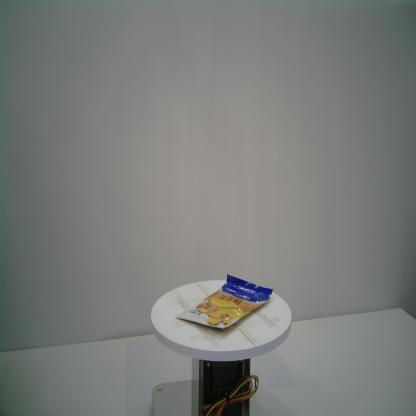Seasoner: (175, 274, 274, 329)
